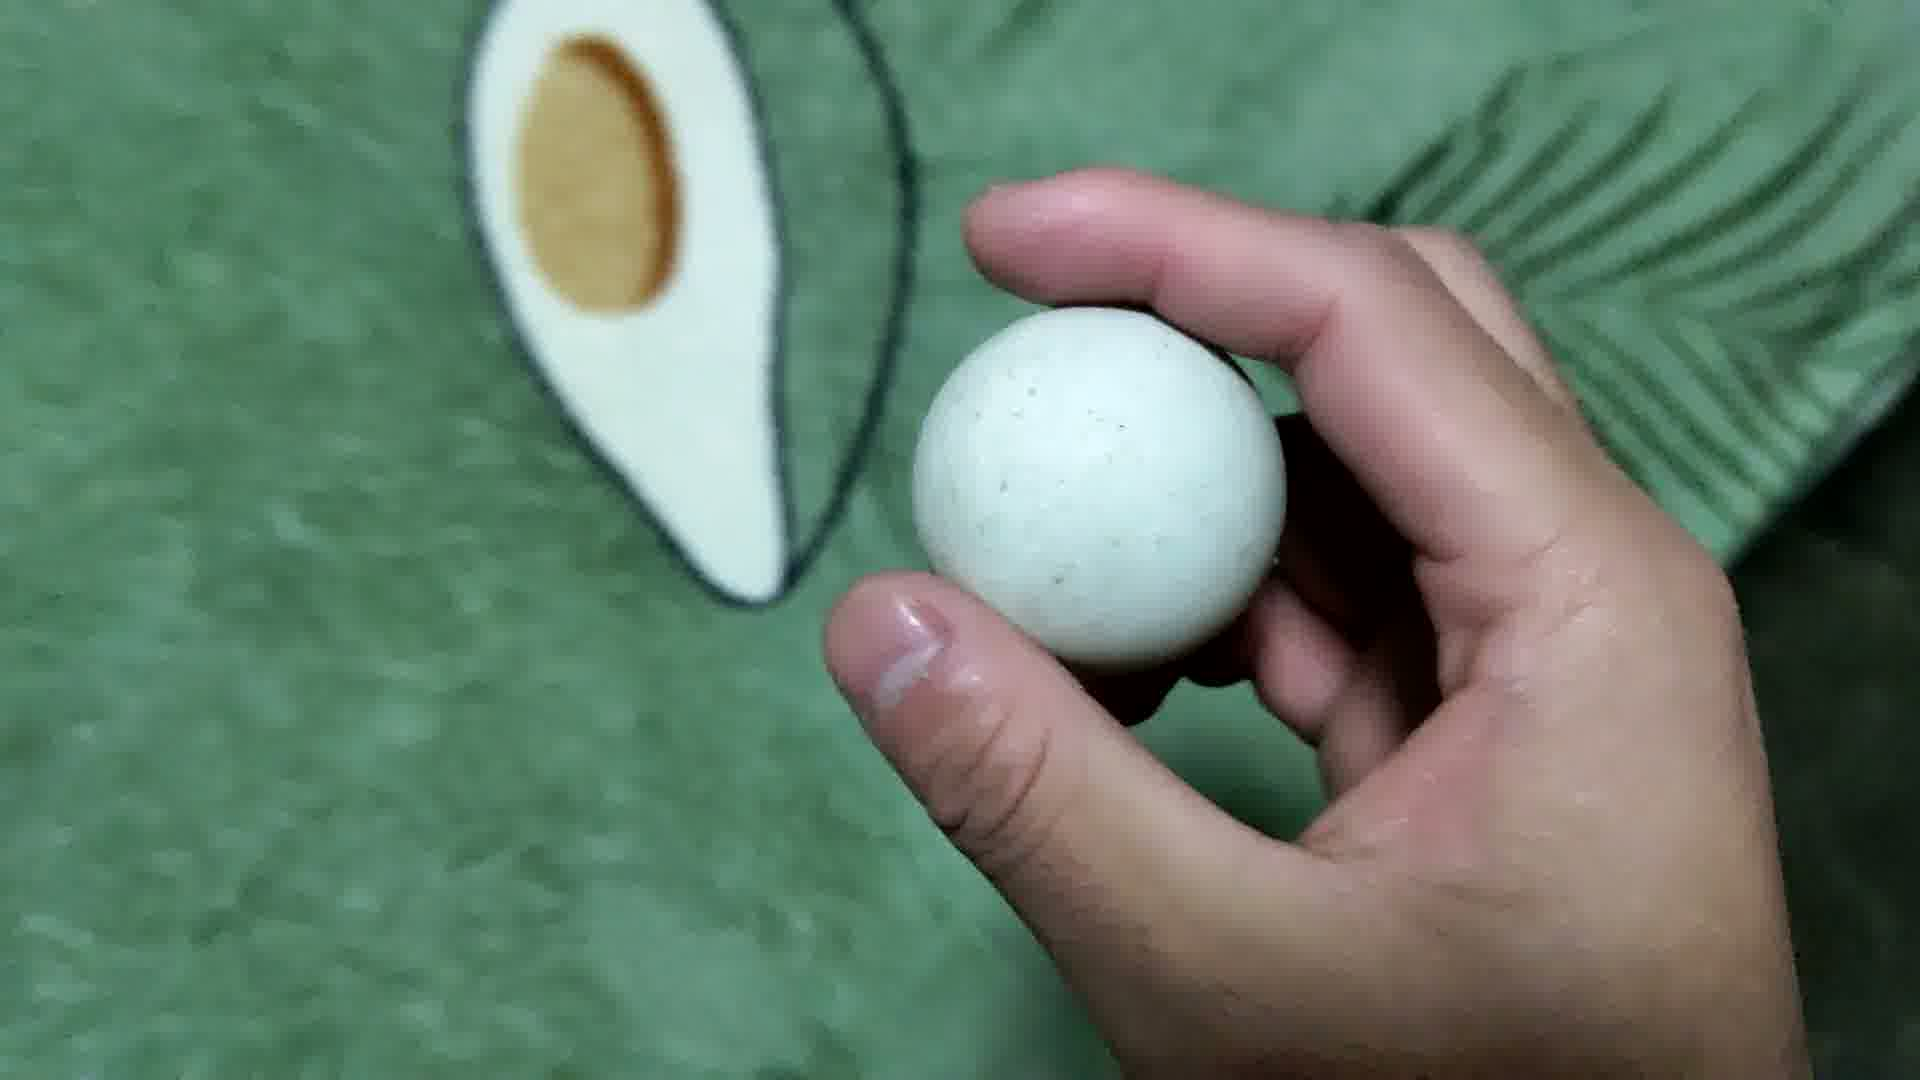Ball: (909, 303, 1284, 658)
